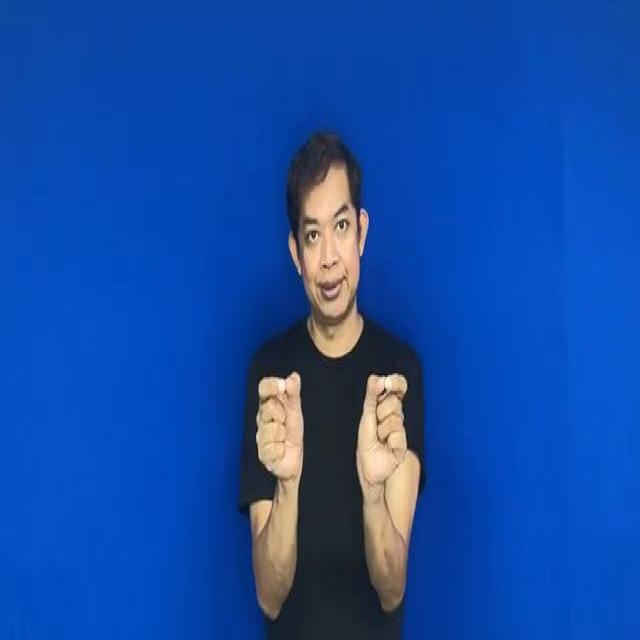crab: (245, 346, 411, 492)
